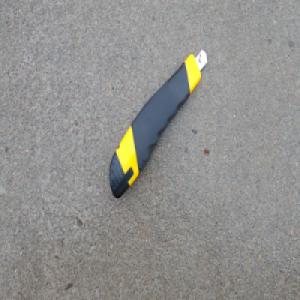Cutter: (107, 46, 207, 199)
